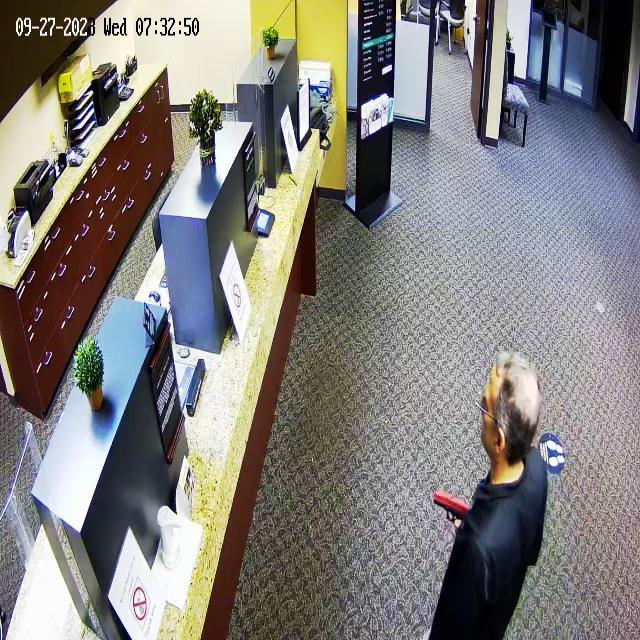Gun: (428, 480, 475, 529)
